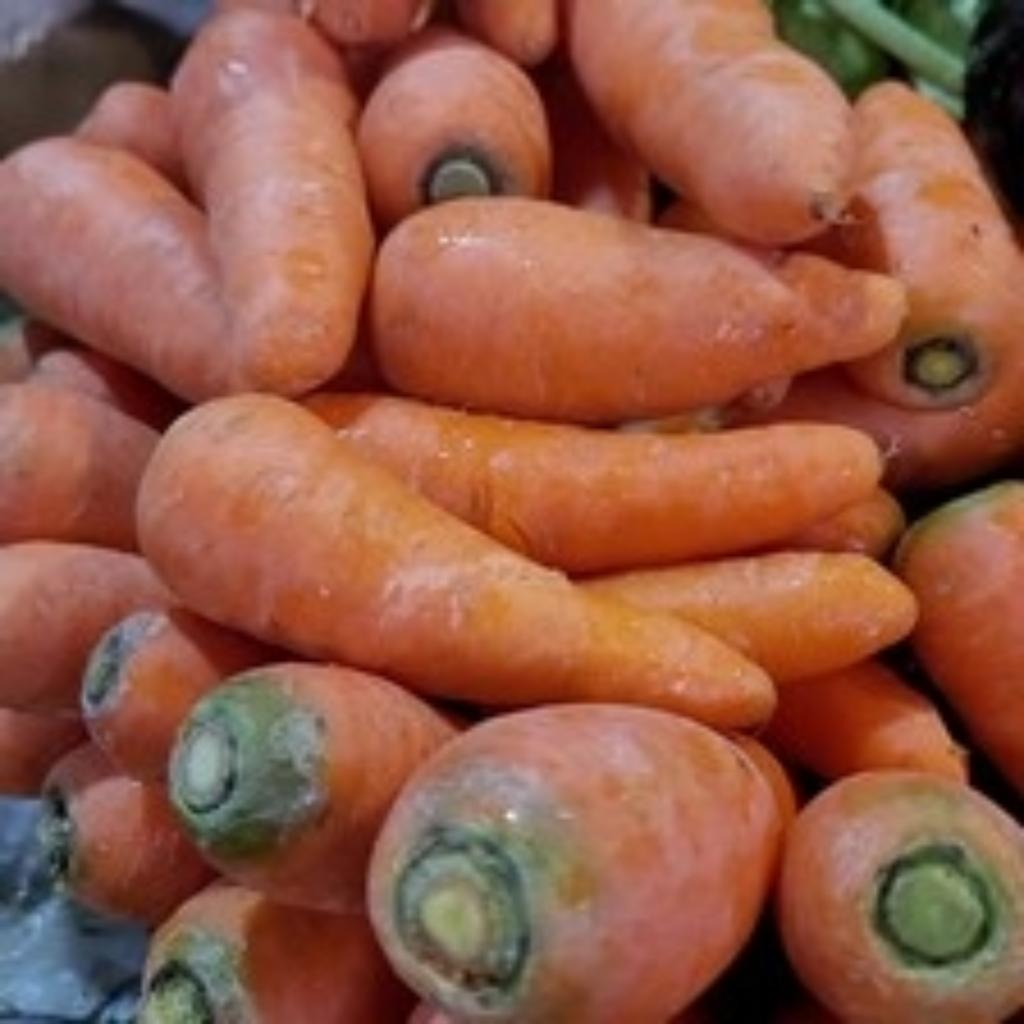carrot: (133, 389, 768, 718), (0, 14, 366, 401), (368, 704, 792, 1024), (302, 396, 880, 573), (778, 774, 1024, 1024)
